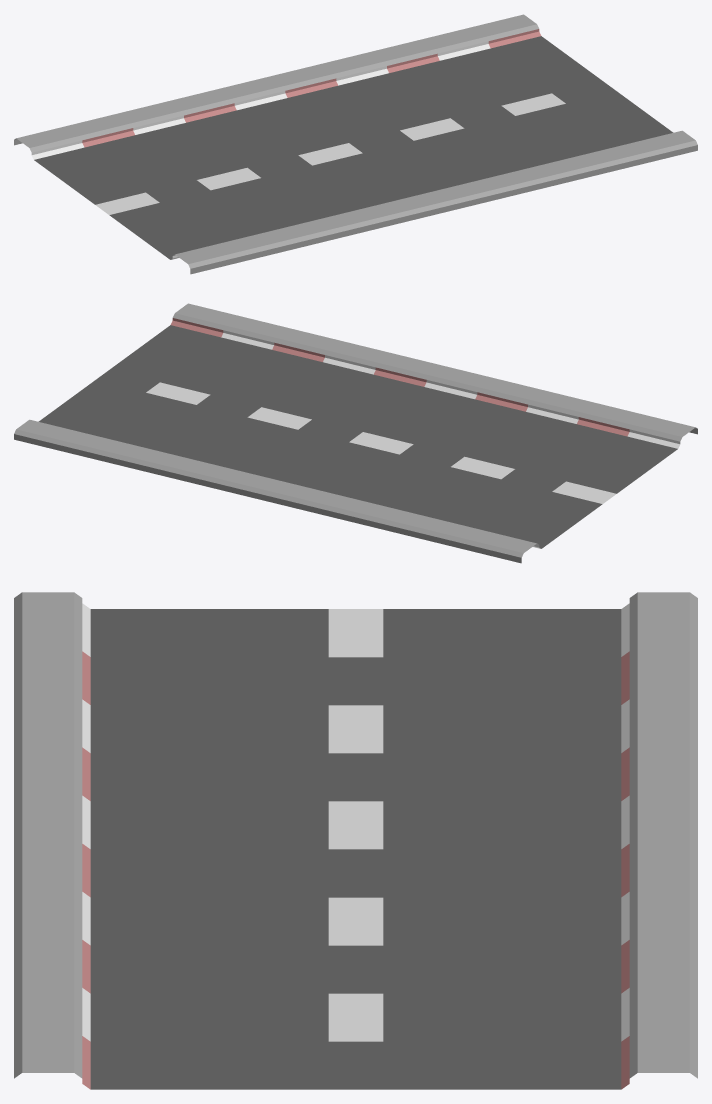
The model's file is Road_Tile.fbx.
3 renders of one model, top to bottom at view 1: azimuth 30°, elevation 25°; view 2: azimuth 150°, elevation 25°; view 3: azimuth 270°, elevation 25°, orthographic. The views are drawn at different scales.
Visible parts, largest first — view 1: street; view 2: street; view 3: street.
Part boxes in pixels (x1,y1,x2,y2): street: [14, 14, 697, 274]; street: [14, 303, 697, 563]; street: [14, 592, 697, 1089].
Bounding box in the file's own units: 207 × 3.4 × 125.
